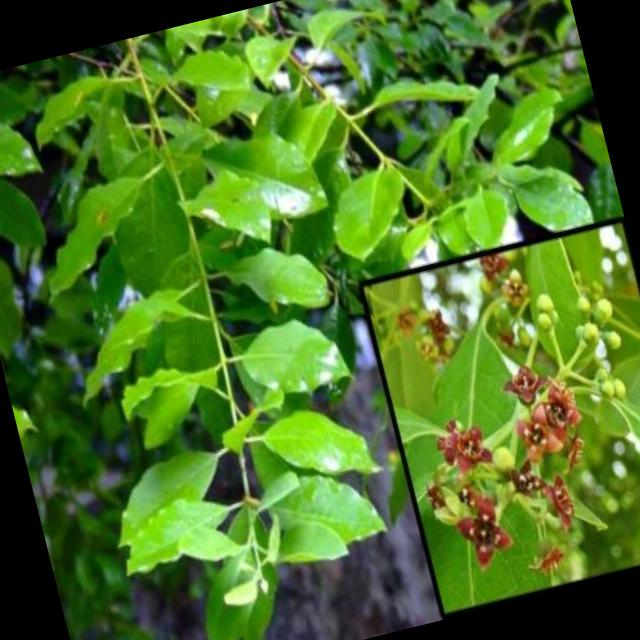Medicinal-Sandalwood: (0, 0, 434, 640), (373, 243, 640, 617)
